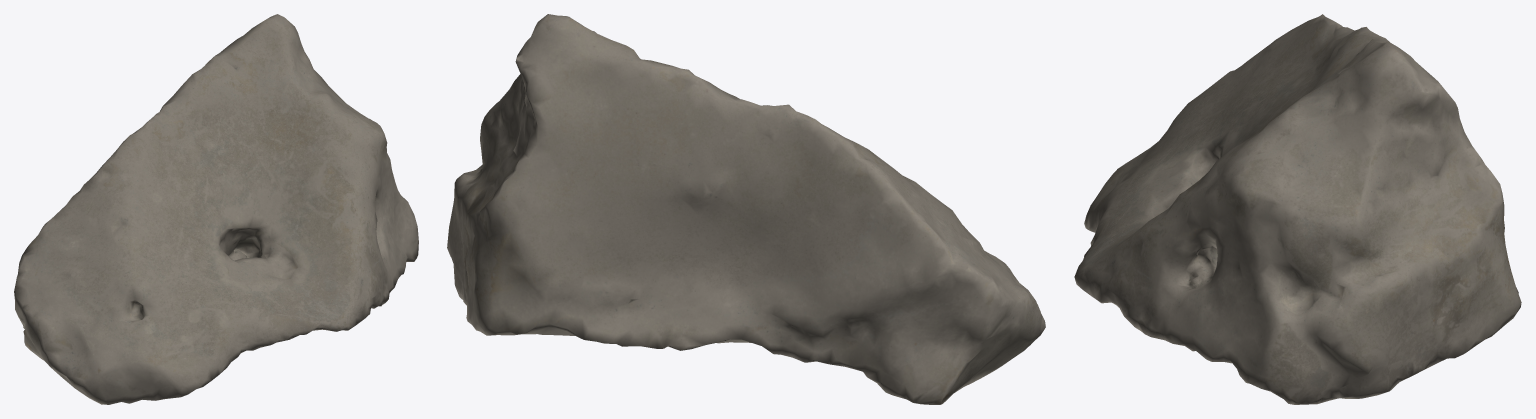
File: moon_rock_07_2k.gltf
The picture shows the model from 3 angles, left to right: view 1: azimuth 30°, elevation 25°; view 2: azimuth 150°, elevation 25°; view 3: azimuth 270°, elevation 25°; orthographic projection. The views are drawn at different scales.
Visible parts, largest first — view 1: moon_rock_07_LOD0; view 2: moon_rock_07_LOD0; view 3: moon_rock_07_LOD0.
Boxes of the visible parts, x1,y1,x2,y2 form: moon_rock_07_LOD0: (14,14,418,404); moon_rock_07_LOD0: (447,14,1045,404); moon_rock_07_LOD0: (1074,14,1521,404).
Size of the model in its own units: 0.0968 by 0.0603 by 0.0738.
Materials: 1 (1 with a texture image).
